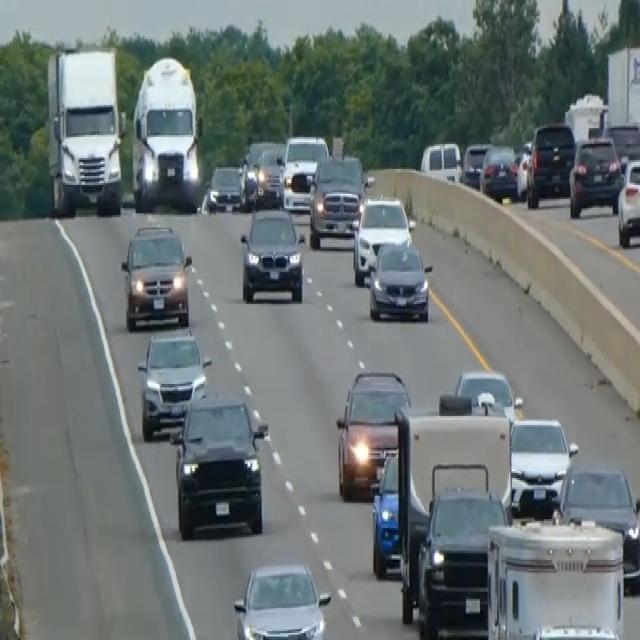car: (169, 389, 268, 539), (415, 482, 509, 638), (552, 460, 639, 592), (335, 366, 411, 498), (136, 324, 211, 439), (120, 220, 192, 330), (232, 560, 331, 638), (508, 414, 577, 516), (239, 204, 305, 304), (351, 192, 413, 284), (307, 151, 365, 247), (367, 236, 431, 322), (568, 133, 622, 217), (525, 119, 575, 206), (369, 448, 402, 578), (277, 134, 329, 212), (453, 366, 522, 423), (479, 142, 518, 201), (616, 155, 639, 247), (519, 619, 628, 638), (253, 144, 285, 206), (420, 139, 461, 183), (206, 162, 242, 212), (604, 119, 639, 165), (461, 140, 492, 187), (515, 139, 533, 197)
lorry: (45, 44, 126, 217), (130, 53, 203, 210)
